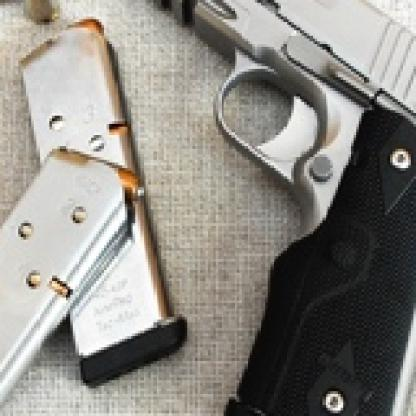gun: (75, 0, 414, 413)
